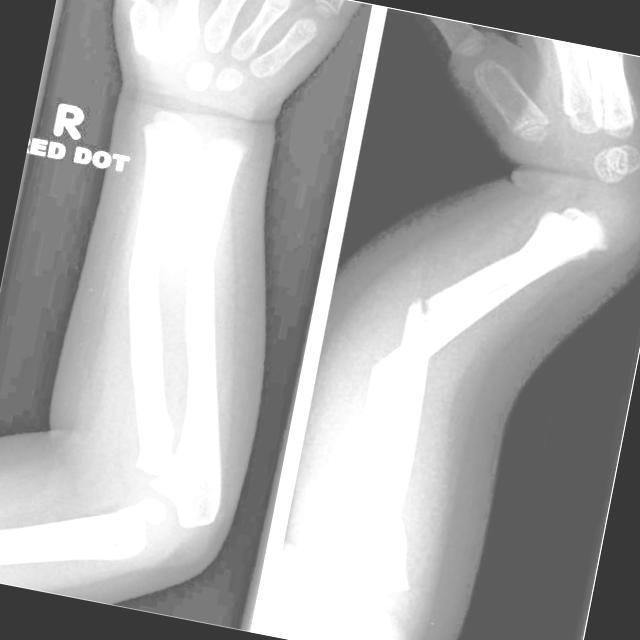GreenStick Fracture: (404, 291, 444, 321)
